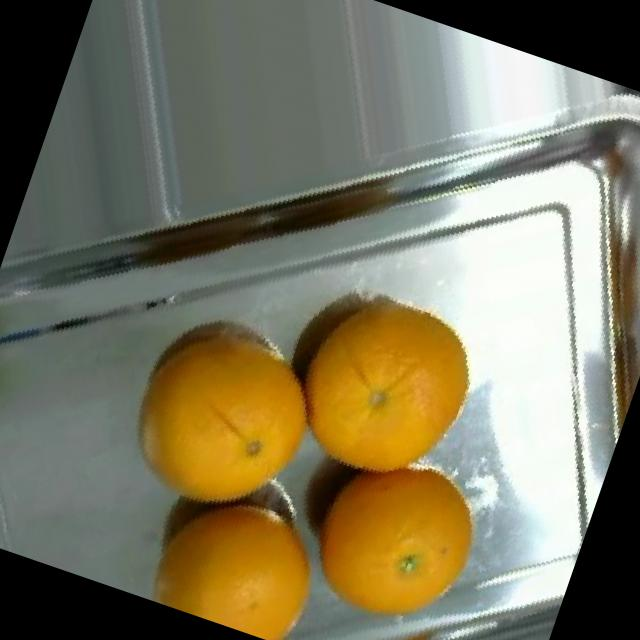Fruit: (267, 397, 529, 640), (121, 416, 370, 640)
